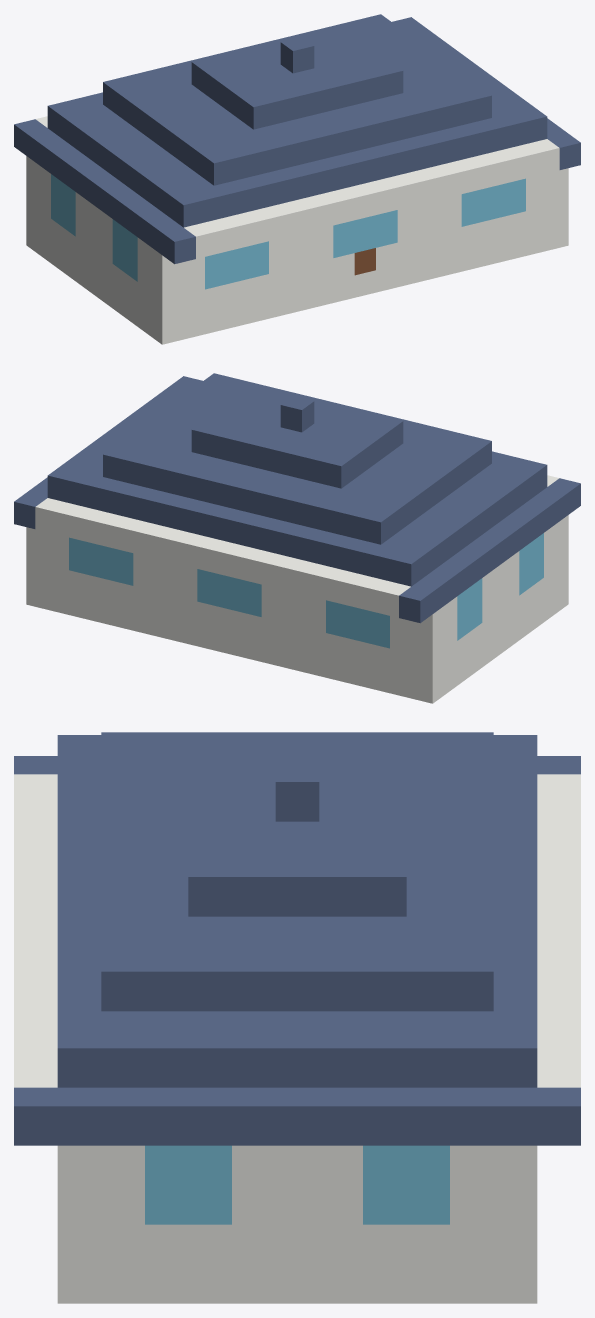
The model's file is bungalow.glb.
3 views of the same model, one above another, from view 1: azimuth 30°, elevation 25°; view 2: azimuth 150°, elevation 25°; view 3: azimuth 270°, elevation 25° (orthographic). The views are drawn at different scales.
Parts seen in each view (by area): view 1: bungalow_roof_slate, bungalow_offwhite, bungalow_window, bungalow_door; view 2: bungalow_roof_slate, bungalow_offwhite, bungalow_window; view 3: bungalow_roof_slate, bungalow_offwhite, bungalow_window.
Part boxes in pixels (x1,y1,x2,y2): bungalow_roof_slate: (14, 14, 580, 264); bungalow_offwhite: (26, 116, 568, 344); bungalow_window: (51, 174, 525, 289); bungalow_door: (354, 248, 375, 275); bungalow_roof_slate: (14, 373, 580, 623); bungalow_offwhite: (26, 475, 568, 703); bungalow_window: (69, 533, 543, 648); bungalow_roof_slate: (14, 732, 580, 1145); bungalow_offwhite: (14, 774, 580, 1303); bungalow_window: (145, 1145, 449, 1224).
Bounding box in the file's own units: 14.44 × 6.84 × 9.88.
